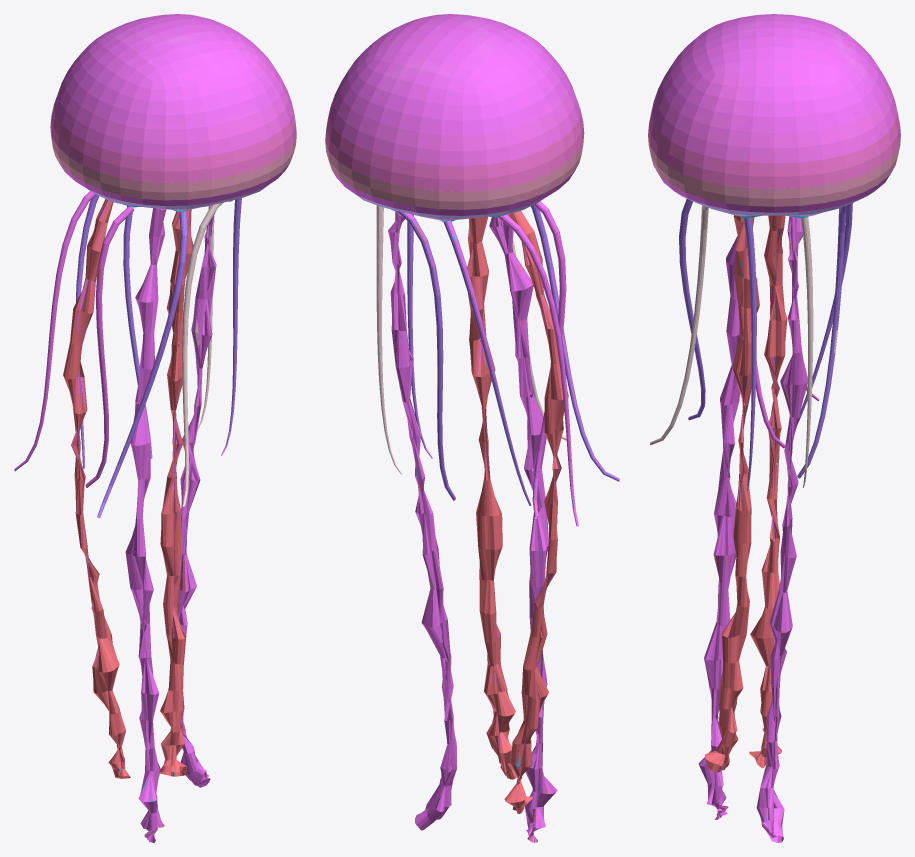
The model's file is jellyfishPink.gltf.
3 views of the same model, side by side, from view 1: azimuth 30°, elevation 25°; view 2: azimuth 150°, elevation 25°; view 3: azimuth 270°, elevation 25° (orthographic). The views are drawn at different scales.
Visible parts, largest first — view 1: BezierCurve.003; view 2: BezierCurve.003; view 3: BezierCurve.003.
Boxes of the visible parts, left/top/right/bottom form: BezierCurve.003: left=14, top=14, right=296, bottom=842; BezierCurve.003: left=325, top=14, right=619, bottom=842; BezierCurve.003: left=648, top=14, right=900, bottom=842.
Size of the model in its own units: 3.01 by 9.22 by 2.59.
1 material, 1 textured.
